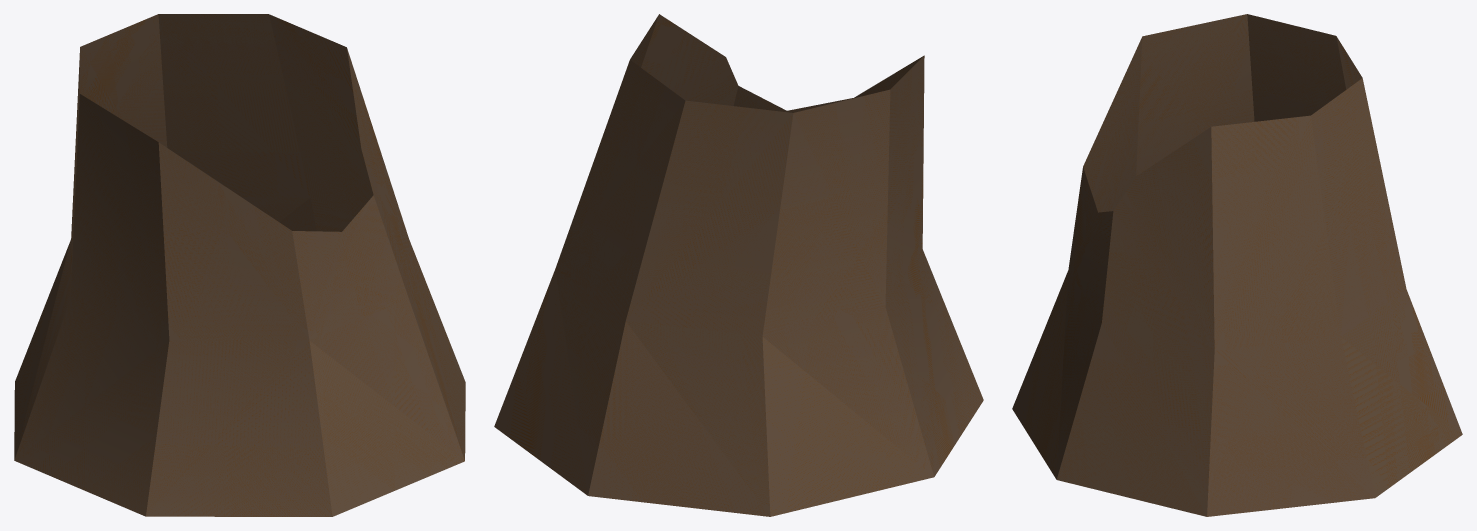
Rendered from Tree_Stump_05.fbx.
The picture shows the model from 3 angles, left to right: view 1: azimuth 30°, elevation 25°; view 2: azimuth 150°, elevation 25°; view 3: azimuth 270°, elevation 25°; orthographic projection. The views are drawn at different scales.
Parts seen in each view (by area): view 1: Tree_Stump_05; view 2: Tree_Stump_05; view 3: Tree_Stump_05.
Boxes of the visible parts, bbox=[...] form: Tree_Stump_05: bbox=[14, 14, 465, 516]; Tree_Stump_05: bbox=[494, 14, 983, 516]; Tree_Stump_05: bbox=[1012, 14, 1462, 516].
Size of the model in its own units: 19.88 by 16.42 by 19.88.
